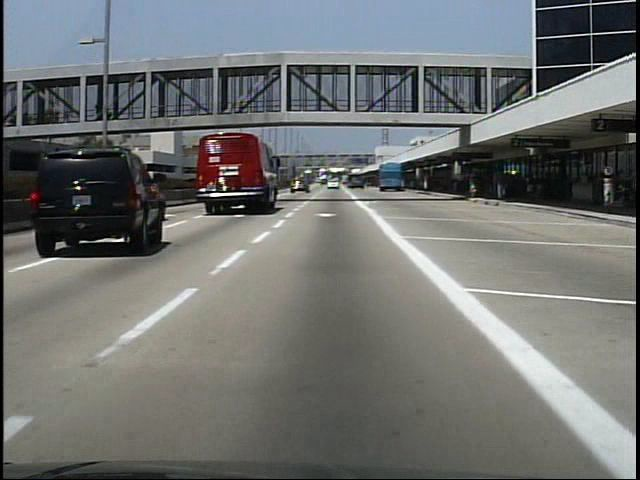person: (521, 169, 539, 203)
